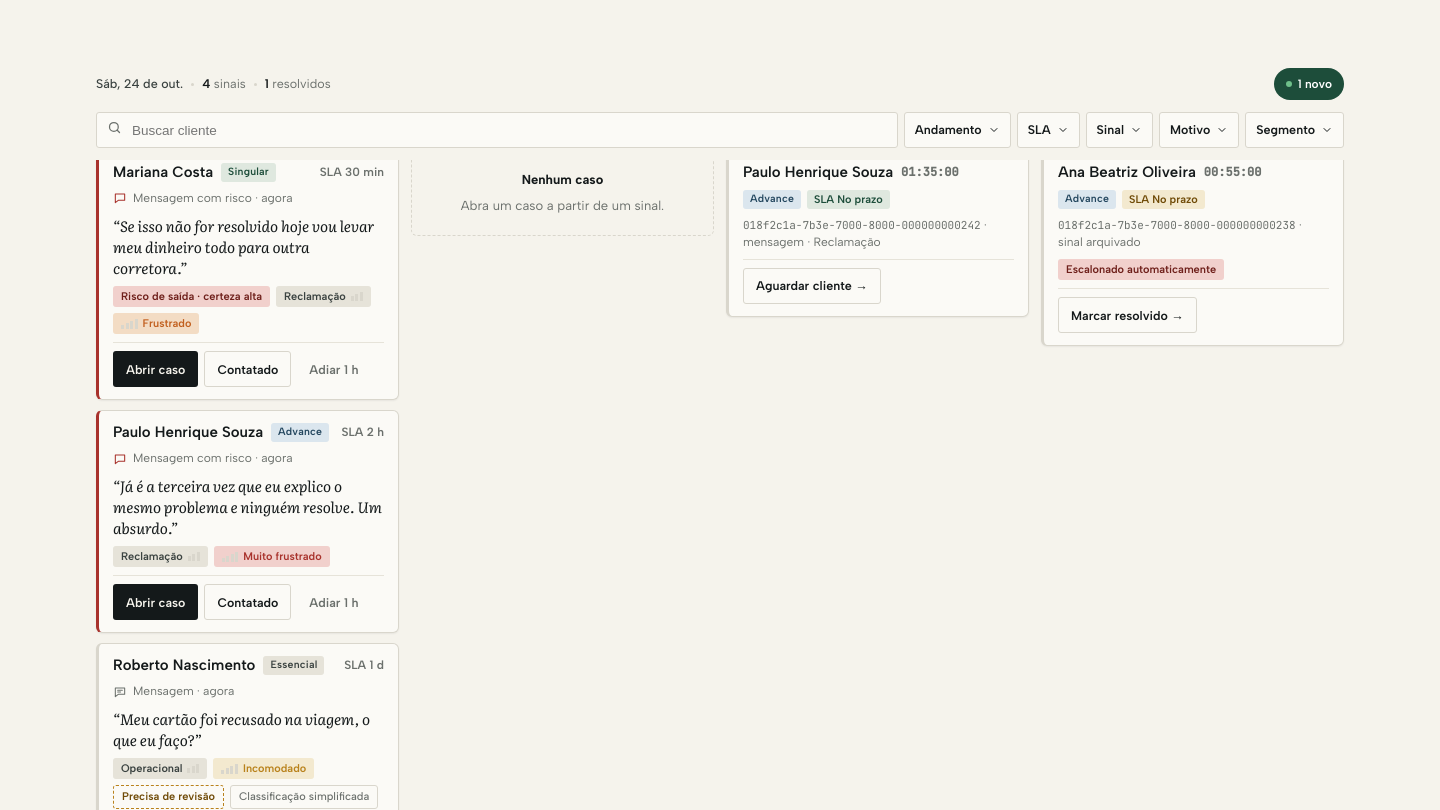
Test: QueueScreen › keeps a live signal on the pill until it is tapped
Expected: the text "ao vivo" is not shown
Step 1. Click the button "1 novo" → (1309, 84), box [1274,68,1344,100]
(page scrolled)
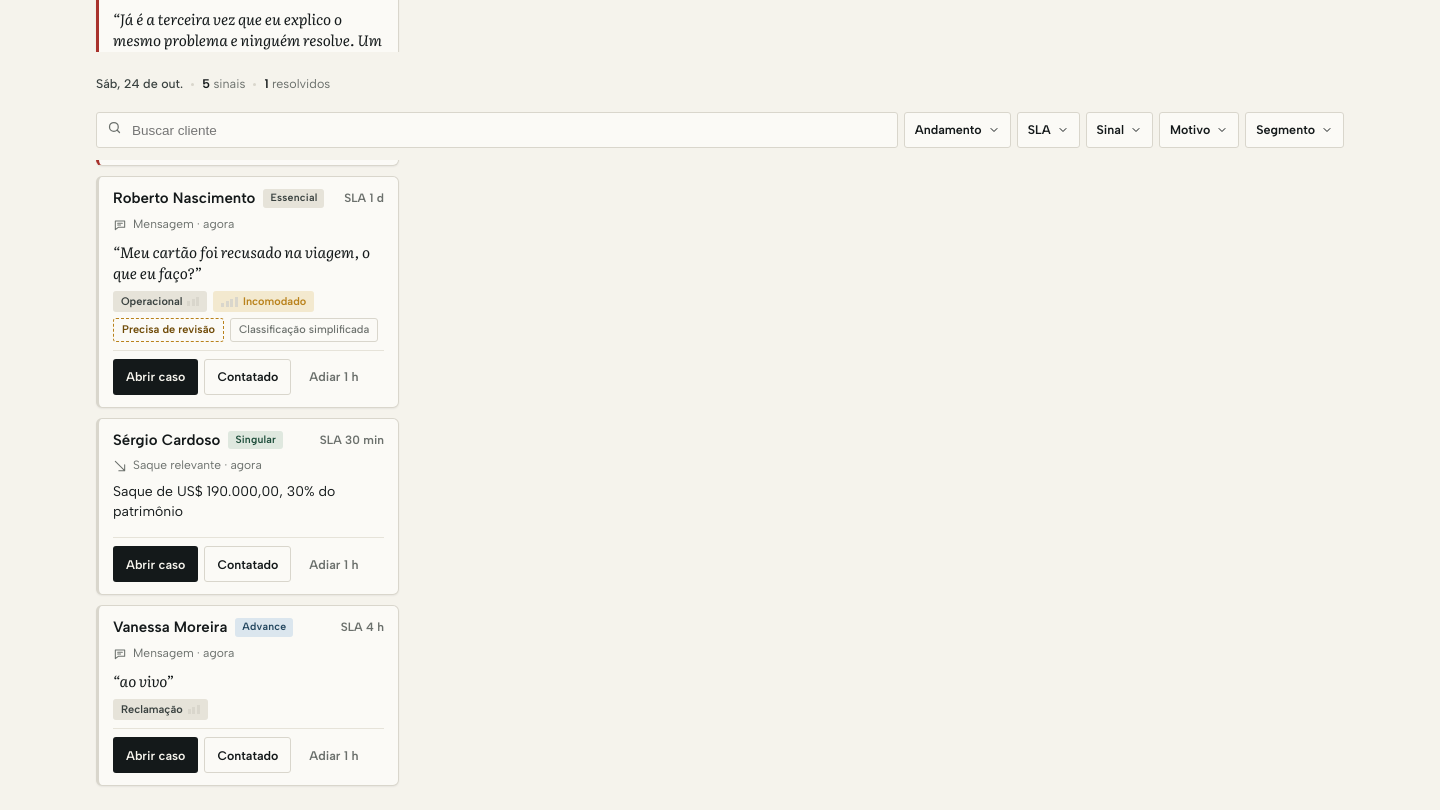
Result: the text "ao vivo" is shown at [120,669,167,692]
Result: the button "1 novo" is gone
